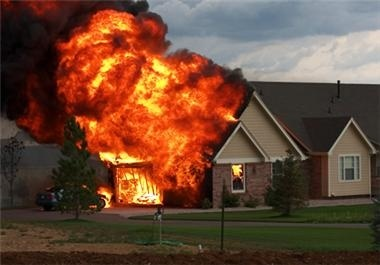fire: (36, 0, 245, 214)
